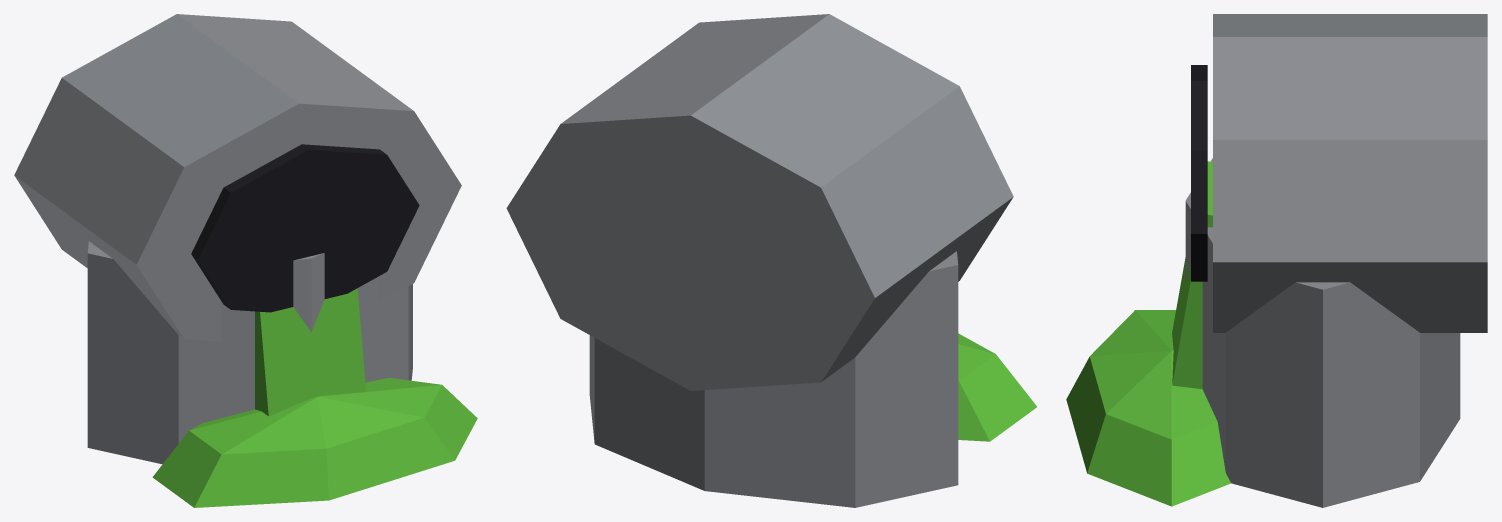
The model's file is env_r11_drain_pipe_stub.glb.
3 views of the same model, side by side, from view 1: azimuth 30°, elevation 25°; view 2: azimuth 150°, elevation 25°; view 3: azimuth 270°, elevation 25° (orthographic). The views are drawn at different scales.
Parts seen in each view (by area): view 1: env_r11_drain_pipe_stub; view 2: env_r11_drain_pipe_stub; view 3: env_r11_drain_pipe_stub.
Boxes of the visible parts, x1=… form: env_r11_drain_pipe_stub: x1=14, y1=14, x2=477, y2=507; env_r11_drain_pipe_stub: x1=506, y1=14, x2=1036, y2=507; env_r11_drain_pipe_stub: x1=1066, y1=14, x2=1487, y2=507.
Size of the model in its own units: 1.4 by 1.4 by 1.4.
Materials: 1 (1 with a texture image).
